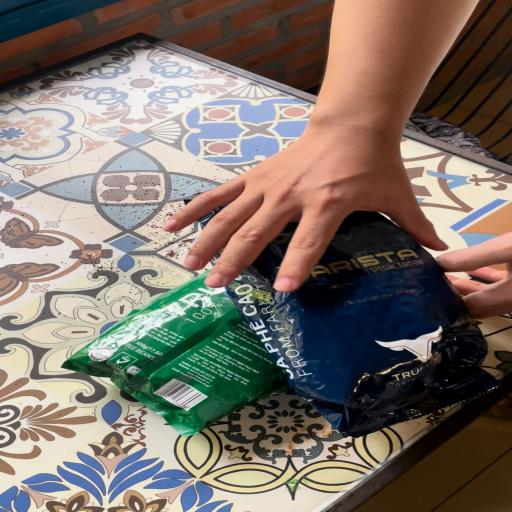cafe_hat: (226, 212, 498, 437)
cafe_xay: (62, 273, 287, 436)
